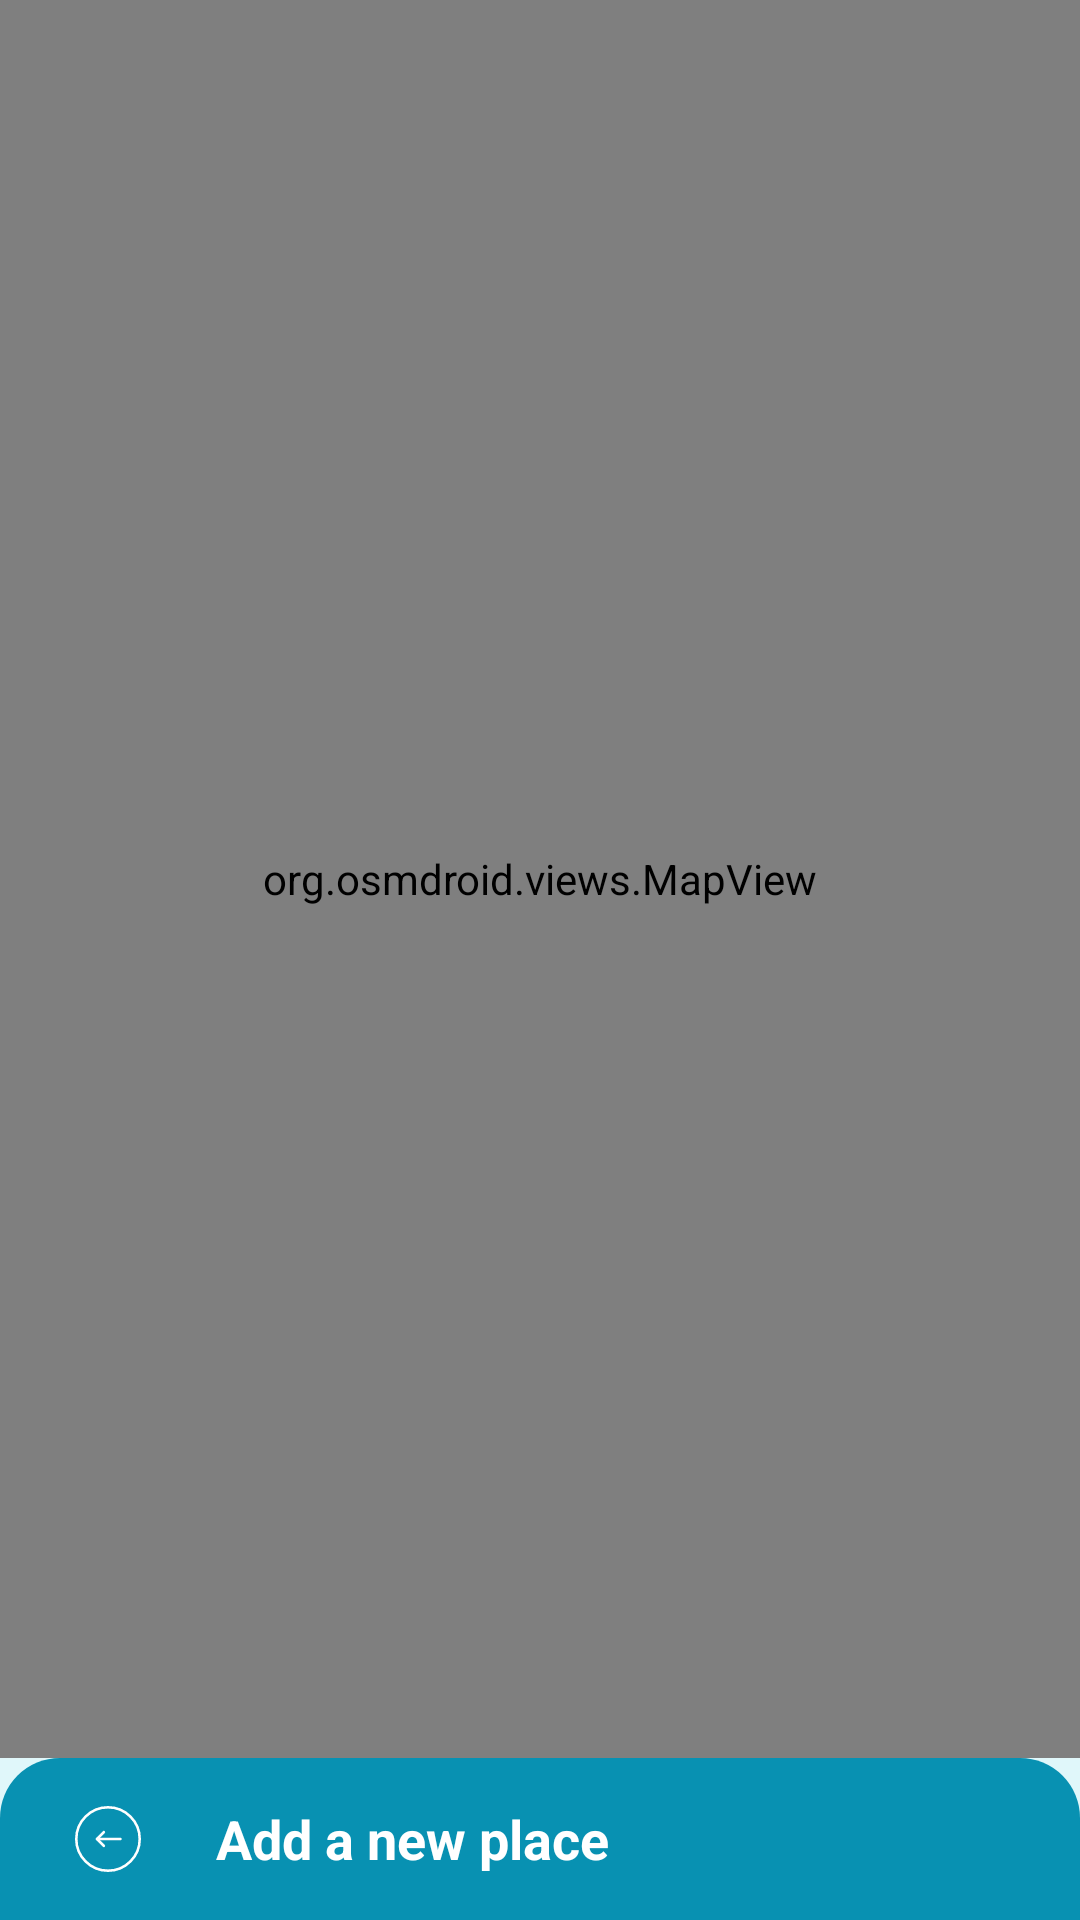

Screen size 1080px×1920px. Icon name, then its box in pixels as (x1,y1,x2,y2):
back: (75,1806,141,1872)
